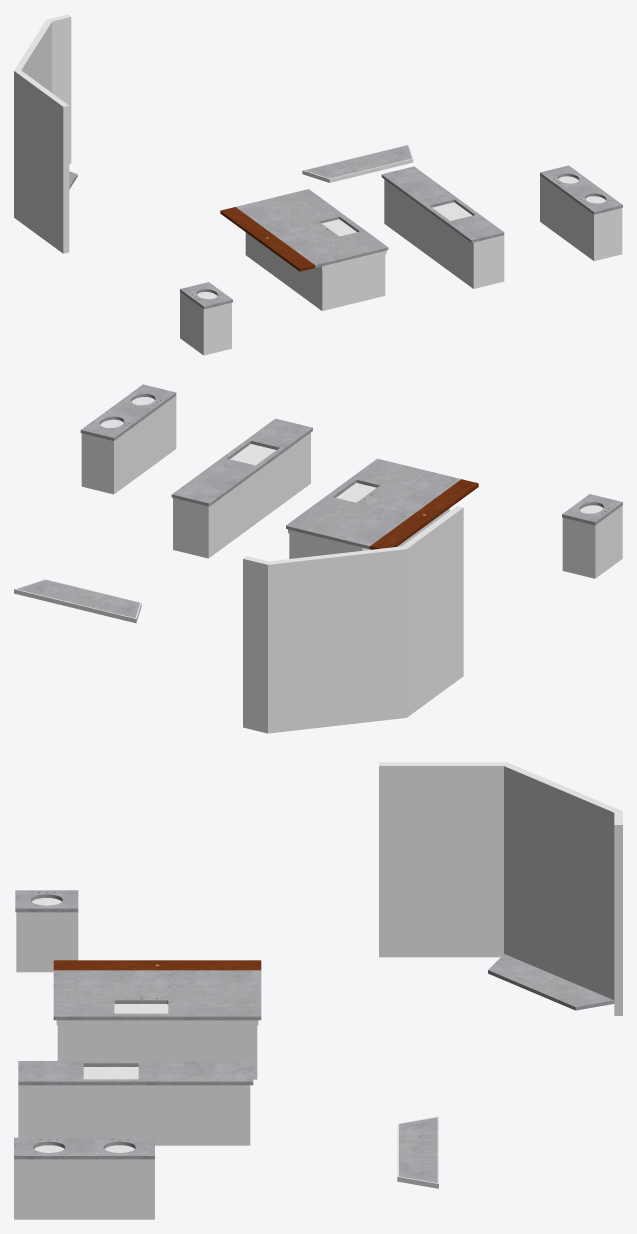
File: ConcreteCountertops.glb
The picture shows the model from 3 angles, top to bottom: view 1: azimuth 30°, elevation 25°; view 2: azimuth 150°, elevation 25°; view 3: azimuth 270°, elevation 25°; orthographic projection. The views are drawn at different scales.
Parts seen in each view (by area): view 1: WallPart, Island part#1, Cabinets part, Cabinets part#1, CountertopLarge part#1, Cabinet part, BSM30WD part, RPB36 part, Concrete part#2, HearthStraight part, B39 part, Concrete part#1 (+3 smaller); view 2: WallPart, Island part#1, Cabinets part#1, CountertopLarge part#1, B39 part, Cabinet part, RPB36 part, Concrete part#2, Cabinets part, HearthStraight part, BSM30WD part, Concrete part#1 (+4 smaller); view 3: WallPart, Island part#1, Cabinets part#1, Cabinets part, CountertopLarge part#1, B39 part, RPB36 part, Cabinet part, BSM30WD part, Concrete part#2, Hearth part, HearthStraight part (+4 smaller).
Part boxes in pixels (x1,y1,x2,y2): WallPart: (14, 14, 71, 253); Island part#1: (236, 189, 388, 267); Cabinets part: (245, 219, 386, 310); Cabinets part#1: (540, 175, 622, 261); CountertopLarge part#1: (381, 166, 504, 242); Cabinet part: (180, 292, 231, 355); BSM30WD part: (451, 228, 504, 288); RPB36 part: (424, 202, 471, 272); Concrete part#2: (540, 165, 622, 214); HearthStraight part: (304, 145, 411, 178); B39 part: (384, 179, 413, 244); Concrete part#1: (180, 282, 232, 309); WallPart: (243, 506, 463, 733); Island part#1: (286, 459, 461, 549); Cabinets part#1: (81, 396, 176, 494); CountertopLarge part#1: (171, 418, 312, 506); B39 part: (173, 483, 241, 558); Cabinet part: (562, 505, 622, 578); RPB36 part: (230, 444, 285, 524); Concrete part#2: (80, 384, 176, 440); Cabinets part: (288, 483, 449, 558); HearthStraight part: (17, 579, 139, 617); BSM30WD part: (285, 432, 310, 501); Concrete part#1: (562, 494, 622, 525); WallPart: (379, 762, 622, 1015); Island part#1: (53, 970, 261, 1020); Cabinets part#1: (14, 1145, 154, 1219); Cabinets part: (56, 1004, 258, 1079); CountertopLarge part#1: (18, 1061, 253, 1085); B39 part: (175, 1085, 250, 1145); RPB36 part: (76, 1067, 145, 1137); Cabinet part: (16, 898, 78, 972); BSM30WD part: (18, 1085, 76, 1137); Concrete part#2: (14, 1137, 154, 1159); Hearth part: (488, 954, 614, 1010); HearthStraight part: (399, 1117, 437, 1182).
Bounding box in the file's own units: 8.28 × 2.79 × 8.
698 materials, 612 textured.
